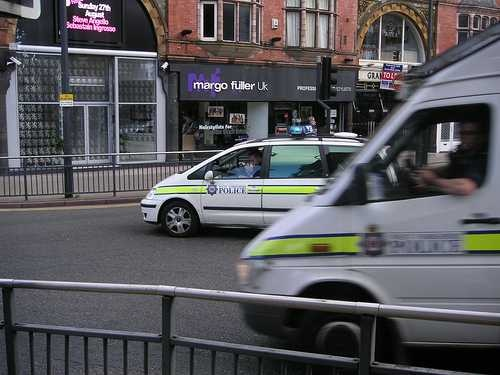Ambulance: (138, 121, 365, 239)
Police Car: (275, 43, 500, 374)
